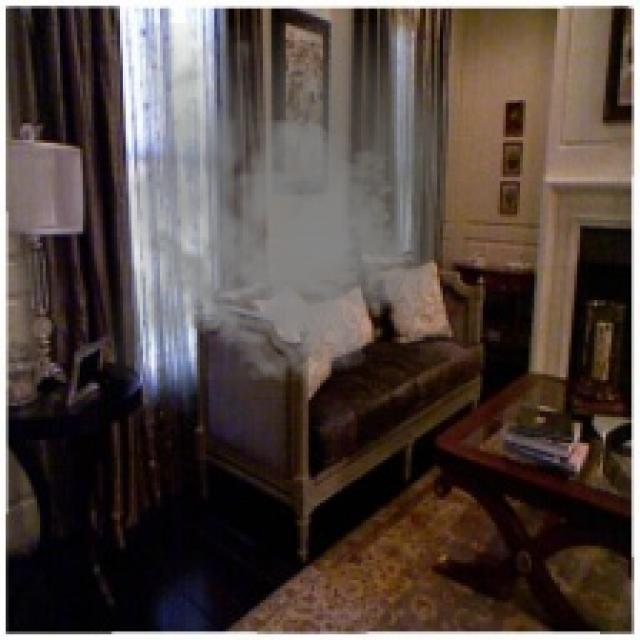smoke: (111, 23, 460, 391)
